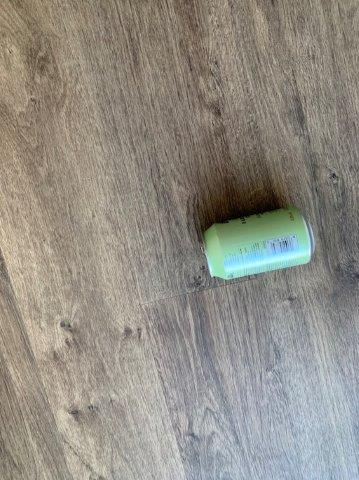kaleng: (206, 209, 316, 278)
